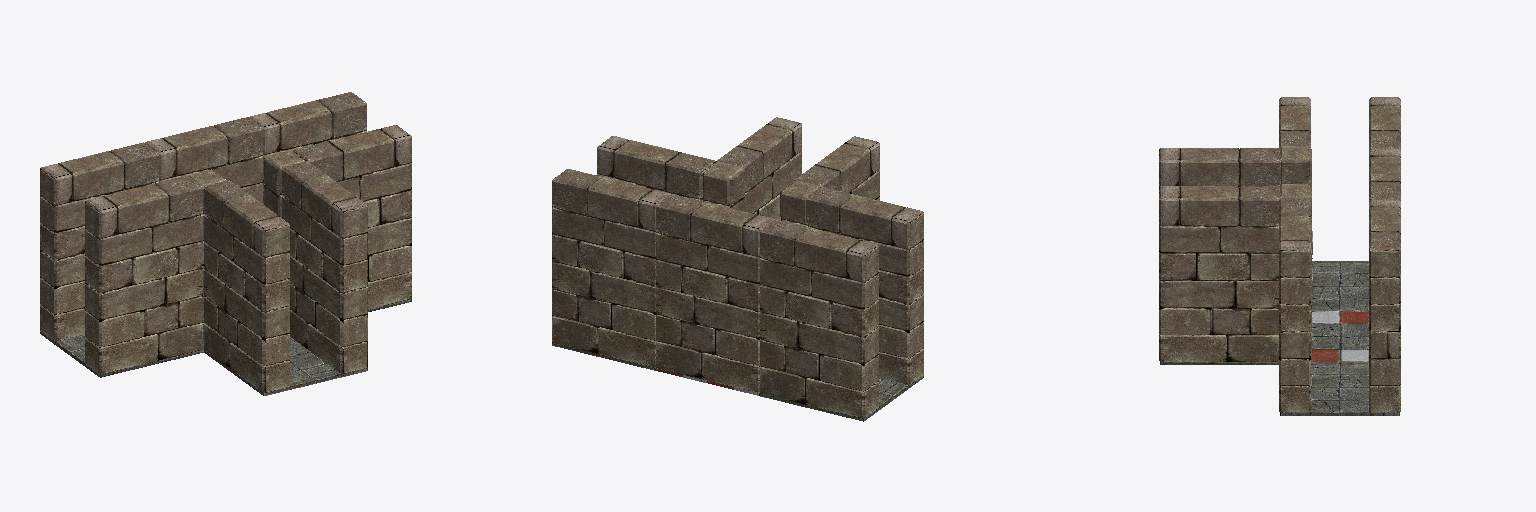
The picture shows the model from 3 angles: view 1: azimuth 30°, elevation 25°; view 2: azimuth 150°, elevation 25°; view 3: azimuth 270°, elevation 25°; orthographic projection.
Parts seen in each view (by area): view 1: Box4153, Box4149, Box4139, Box4150, Box4154, Box4132, Box3452, Box030, Box4152, Box024, Box4151; view 2: Box4150, Box4132, Box3452, Box4153, Box4139, Box4154, Box4149, Box4152, Box4151, Box024; view 3: Box4139, Box3452, Box4154, Box4149, Box026, Box00234, Box024, Box4132, Box4150, Box4153, Box4151, Box4152.
Part boxes in pixels (x1,y1,x2,y2): Box4153: (85, 176, 203, 374); Box4149: (204, 180, 289, 392); Box4139: (282, 161, 367, 373); Box4150: (40, 142, 158, 341); Box4154: (293, 125, 411, 308); Box4132: (145, 117, 262, 203); Box3452: (248, 92, 366, 204); Box030: (204, 337, 367, 395); Box4152: (264, 150, 304, 217); Box024: (40, 331, 203, 377); Box4151: (188, 169, 226, 350); Box4150: (760, 219, 878, 418); Box4132: (656, 194, 774, 392); Box3452: (552, 169, 670, 367); Box4153: (805, 187, 923, 385); Box4139: (716, 117, 801, 219); Box4154: (597, 136, 715, 200); Box4149: (794, 136, 879, 200); Box4152: (703, 161, 744, 211); Box4151: (780, 180, 820, 225); Box024: (759, 375, 923, 421); Box4139: (1159, 186, 1279, 361); Box3452: (1369, 199, 1400, 412); Box4154: (1279, 199, 1310, 412); Box4149: (1159, 148, 1280, 186); Box026: (1280, 362, 1399, 415); Box00234: (1311, 311, 1368, 361); Box024: (1312, 261, 1368, 310); Box4132: (1369, 148, 1400, 199); Box4150: (1369, 97, 1400, 148); Box4153: (1279, 97, 1310, 148); Box4151: (1280, 146, 1312, 258); Box4152: (1280, 184, 1312, 359).
Bounding box in the file's own units: 6.04 × 3.08 × 4.04.
3 materials, 3 textured.